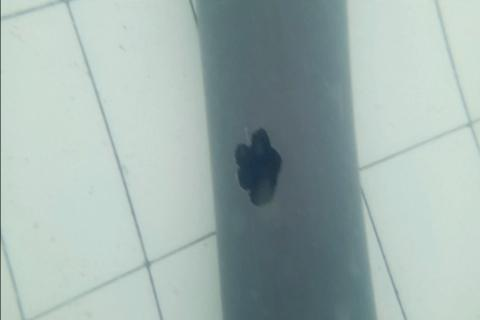kebocoran: (231, 126, 283, 210)
